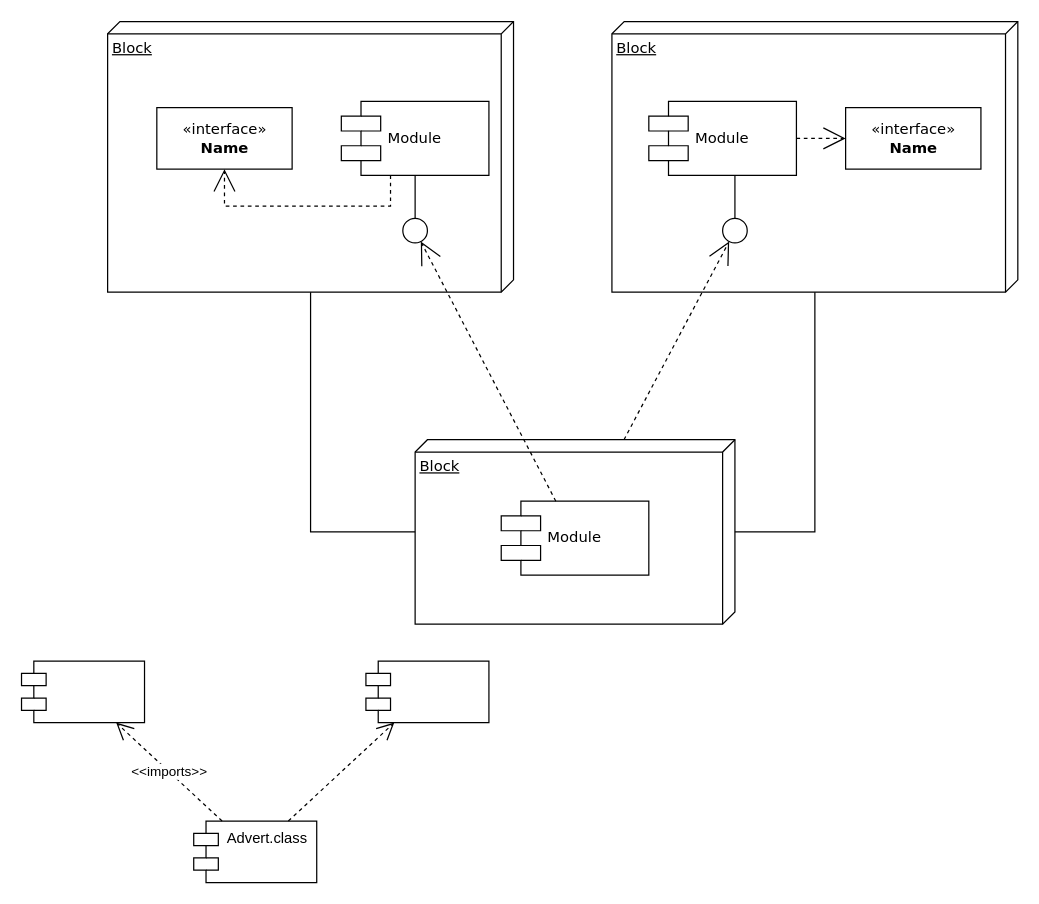
This 1039x904 diagram has some shape labels left out. The shapes that lost their labels are listed below. From the top down, each one's box as (x1, y1, x2, y2) in pixels, then its label:
(20, 660, 145, 723): classes111.zip
(365, 660, 489, 723): java.exe
